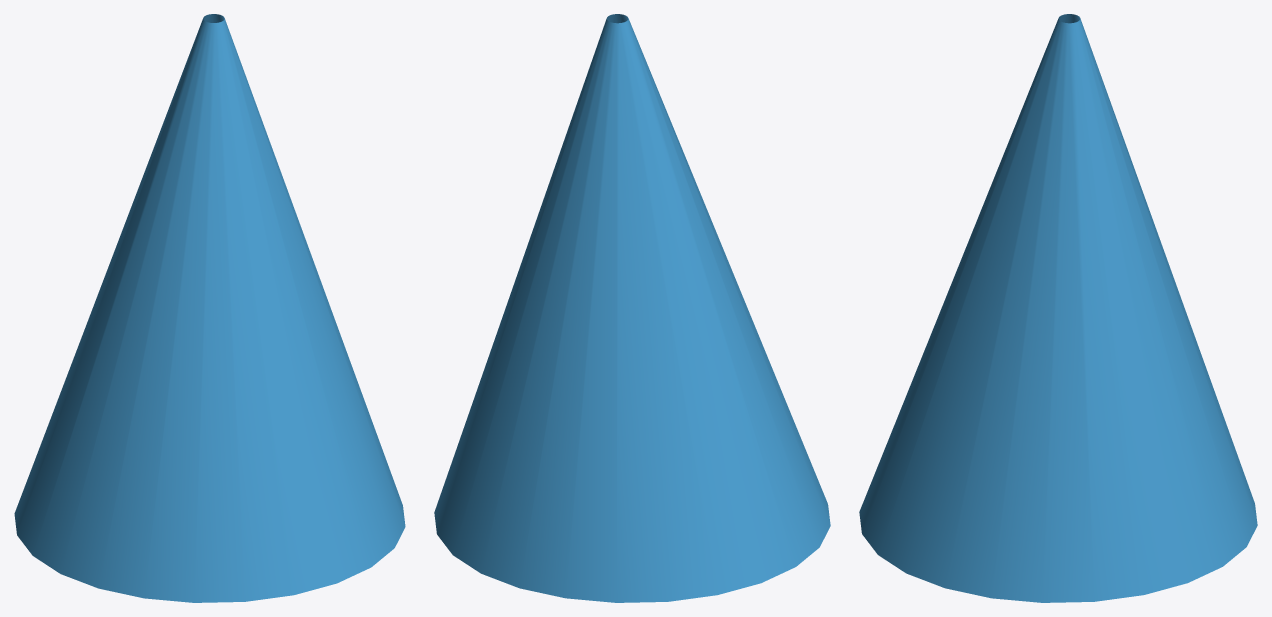
The model's file is holo.dae.
3 renders of one model, left to right at view 1: azimuth 30°, elevation 25°; view 2: azimuth 150°, elevation 25°; view 3: azimuth 270°, elevation 25°, orthographic.
Visible parts, largest first — view 1: SketchUp; view 2: SketchUp; view 3: SketchUp.
Boxes of the visible parts, box(x1,y1,x2,y2) form: SketchUp: box(14, 14, 405, 602); SketchUp: box(434, 14, 830, 602); SketchUp: box(859, 14, 1257, 602).
Size of the model in its own units: 202 by 202 by 283.
